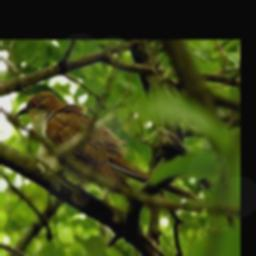Cuckoo: (14, 88, 201, 203)
